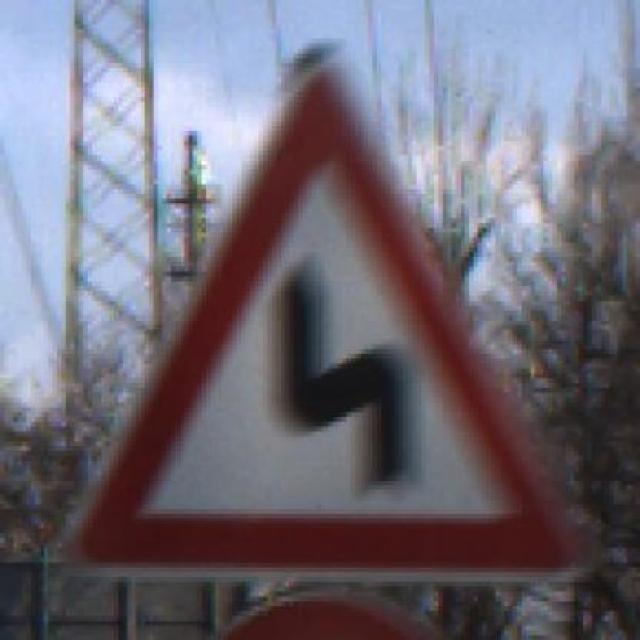Left Zig Zag Traffic: (57, 53, 583, 596)
